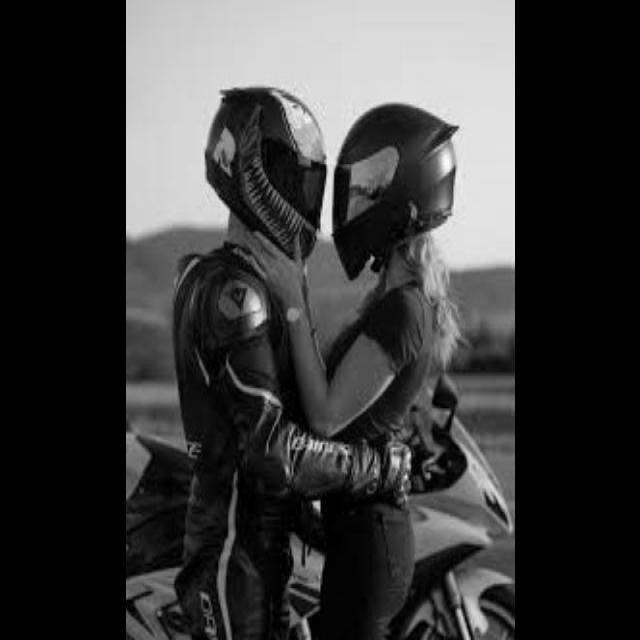5_casco: (204, 86, 326, 259)
